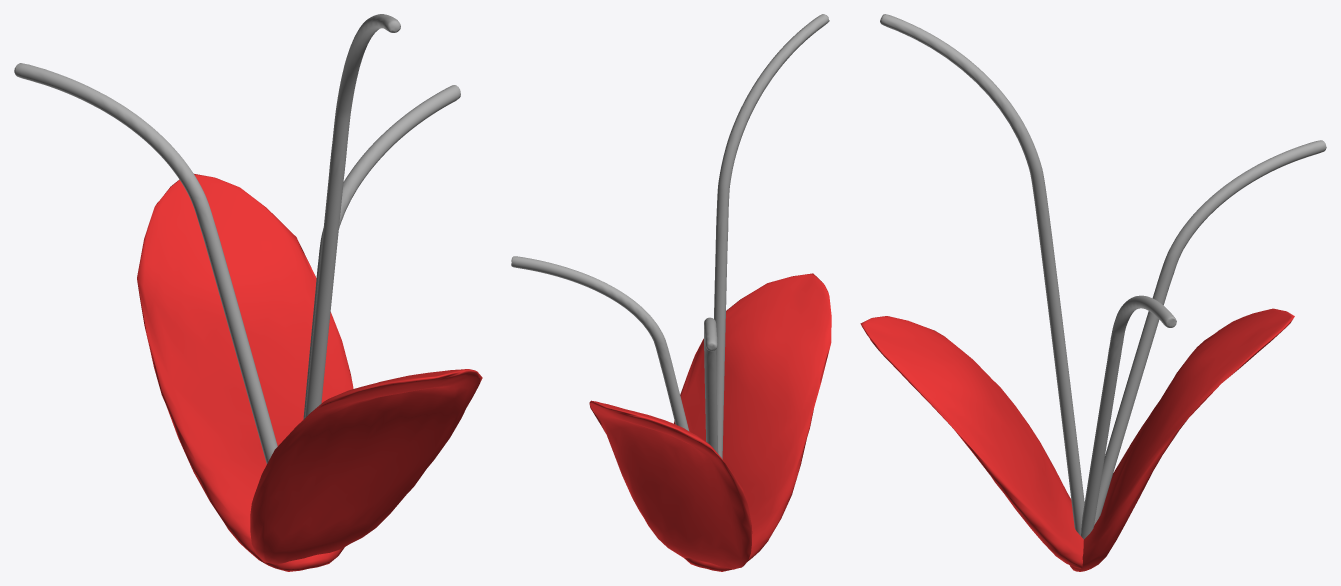
The model's file is LongStem.fbx.
3 views of the same model, side by side, from view 1: azimuth 30°, elevation 25°; view 2: azimuth 150°, elevation 25°; view 3: azimuth 270°, elevation 25° (orthographic). The views are drawn at different scales.
Parts seen in each view (by area): view 1: leaf1, leaf2, stem2, stem1, stem3; view 2: leaf2, leaf1, stem1, stem3, stem2; view 3: leaf2, leaf1, stem1, stem2, stem3.
Boxes of the visible parts, left/top/right/bottom form: leaf1: left=137, top=174, right=353, bottom=571; leaf2: left=250, top=369, right=482, bottom=564; stem2: left=14, top=63, right=277, bottom=463; stem1: left=304, top=14, right=400, bottom=418; stem3: left=303, top=85, right=460, bottom=419; leaf2: left=674, top=273, right=831, bottom=571; leaf1: left=589, top=400, right=752, bottom=569; stem1: left=714, top=14, right=829, bottom=459; stem3: left=511, top=256, right=689, bottom=431; stem2: left=704, top=317, right=718, bottom=453; leaf2: left=860, top=316, right=1083, bottom=568; leaf1: left=1070, top=308, right=1294, bottom=571; stem1: left=880, top=14, right=1084, bottom=535; stem2: left=1094, top=140, right=1326, bottom=525; stem3: left=1081, top=295, right=1176, bottom=539.
Size of the model in its own units: 49.13 by 84.33 by 66.43.
